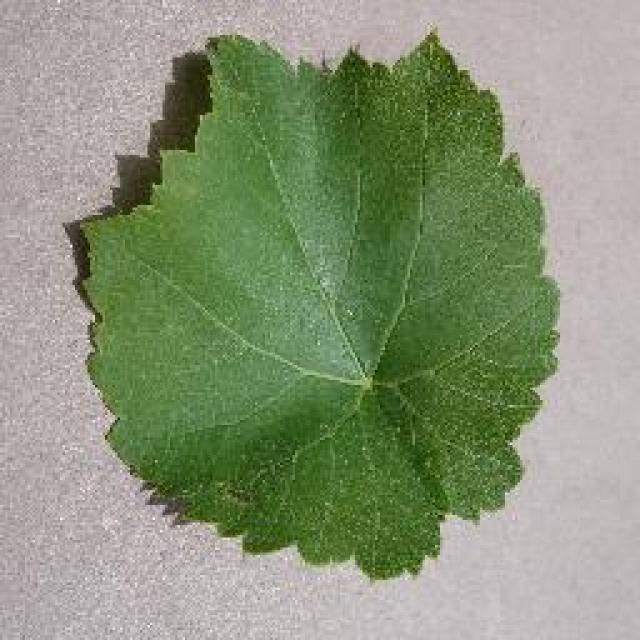Grape___healthy: (85, 35, 558, 575)
